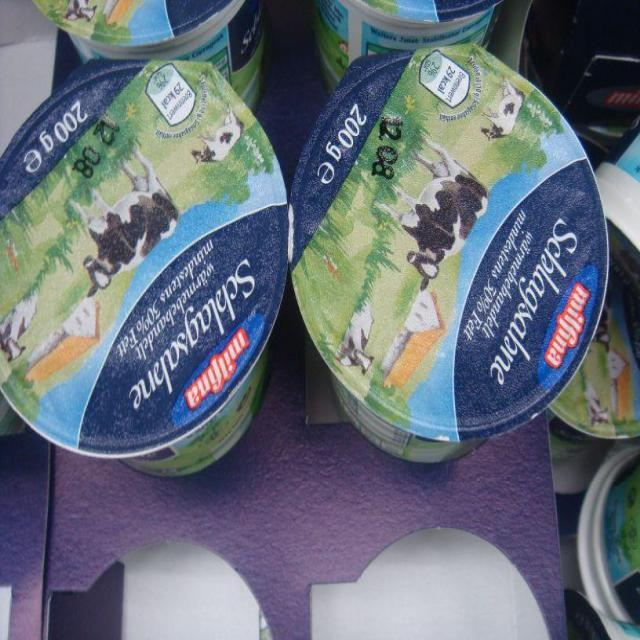Cream: (290, 44, 607, 461), (0, 61, 287, 475), (35, 0, 264, 108), (549, 218, 639, 462), (315, 0, 500, 90), (578, 445, 639, 638)
